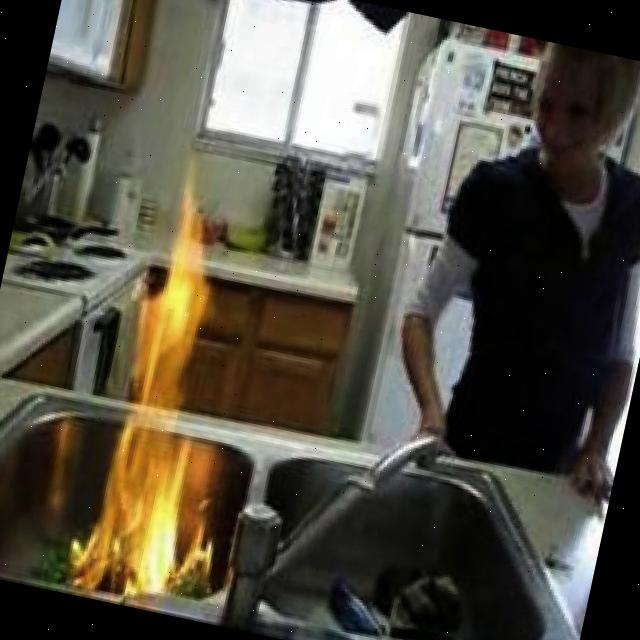fire: (73, 156, 290, 606)
